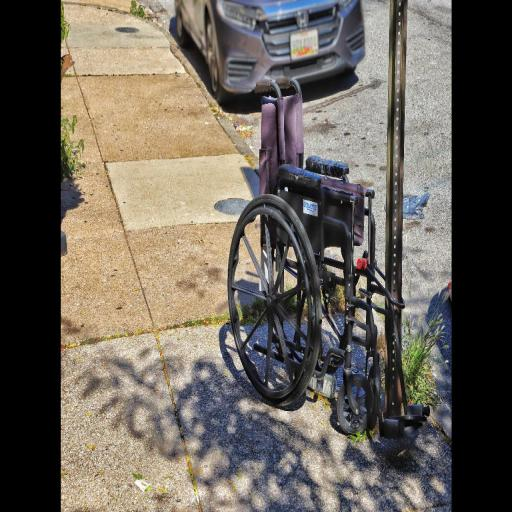cadeira_de_rodas: (224, 77, 421, 466)
